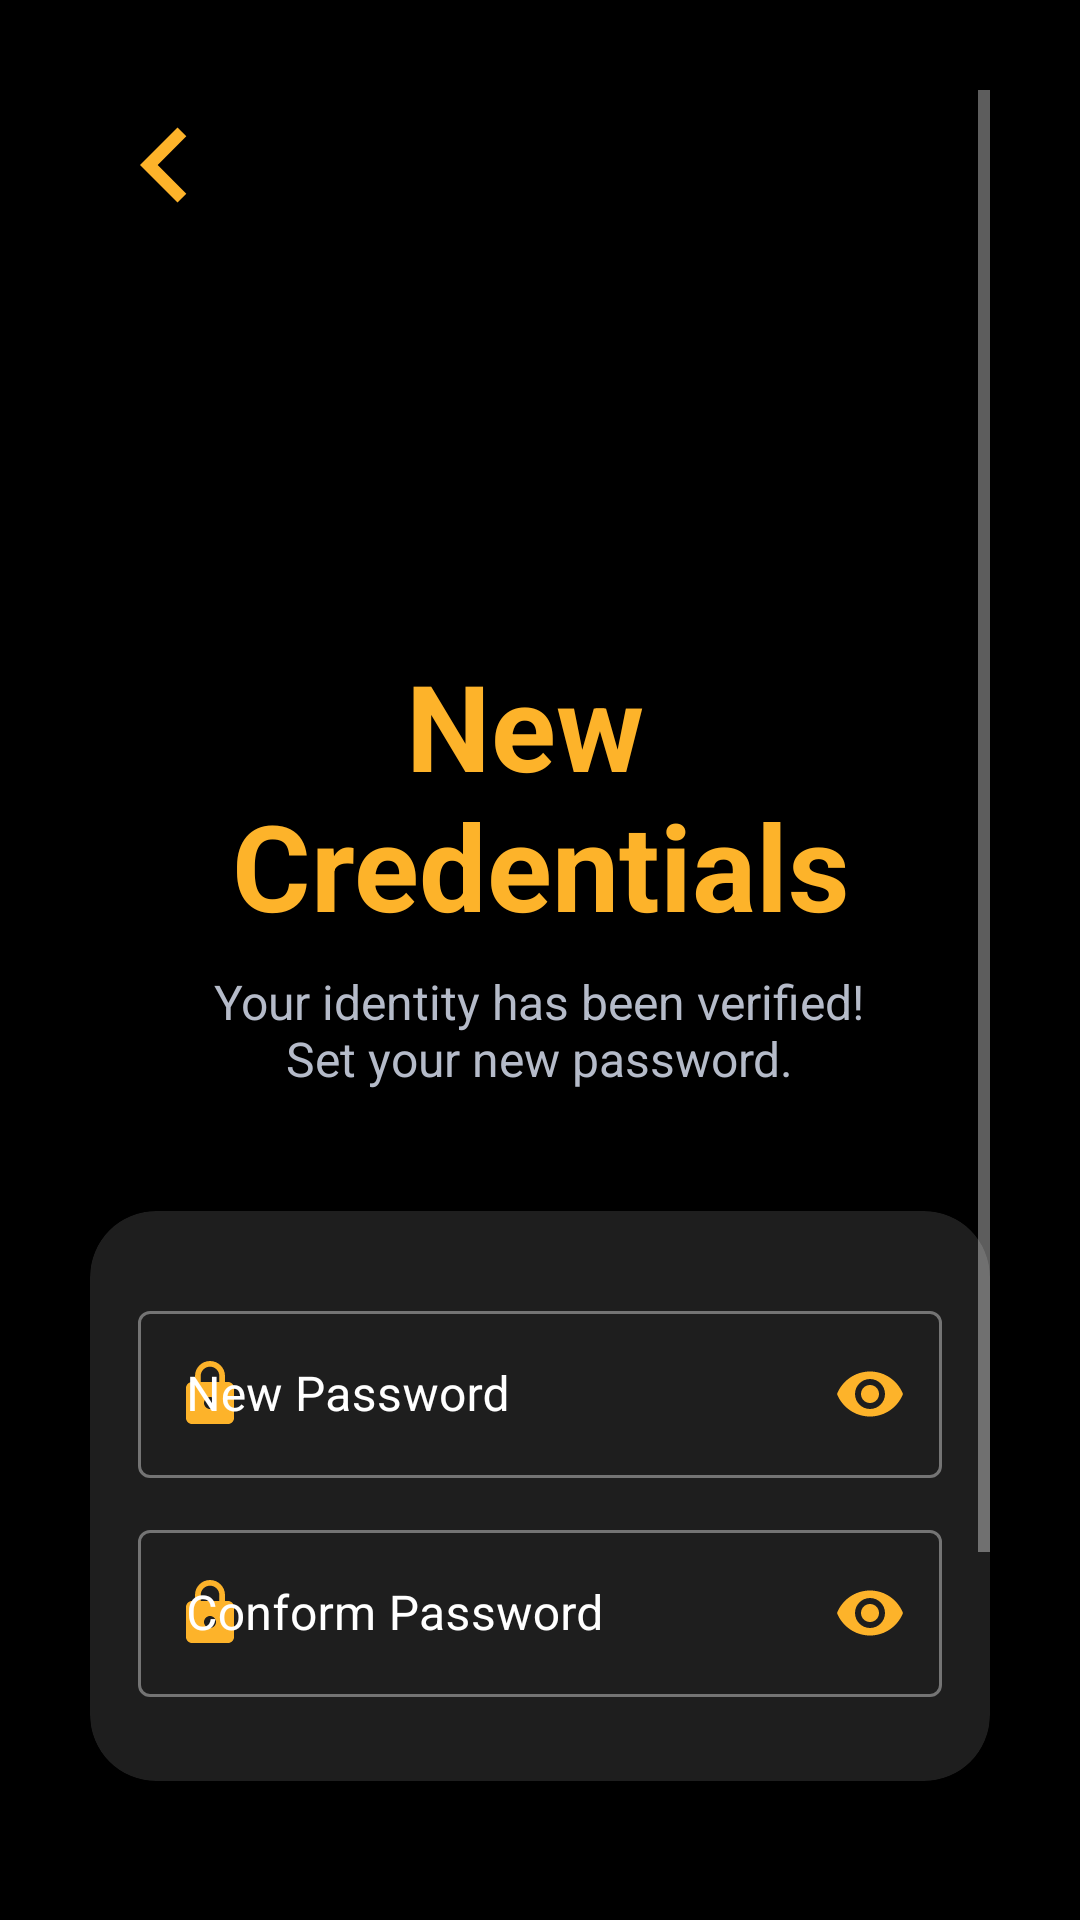

Icon click points for this 1080 x 1920 phone screenshot, format (x=x, y=y):
arrow left: (x=163, y=165)
